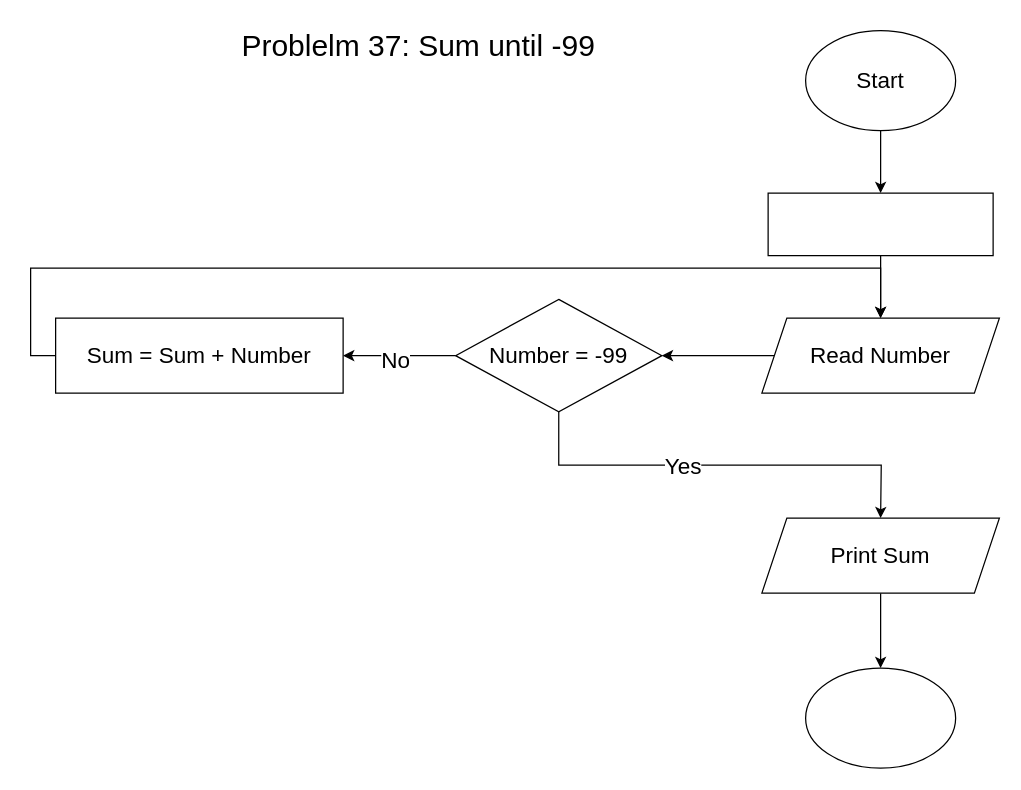
The diagram is 1021 pixels wide and 790 high, and some of its shapes have lost their labels. The shapes that lost their labels are listed below. From the top down, each one's centre as x and y in pixels, then its label:
the point at 880,224: Sum = 0
the point at 880,717: End
